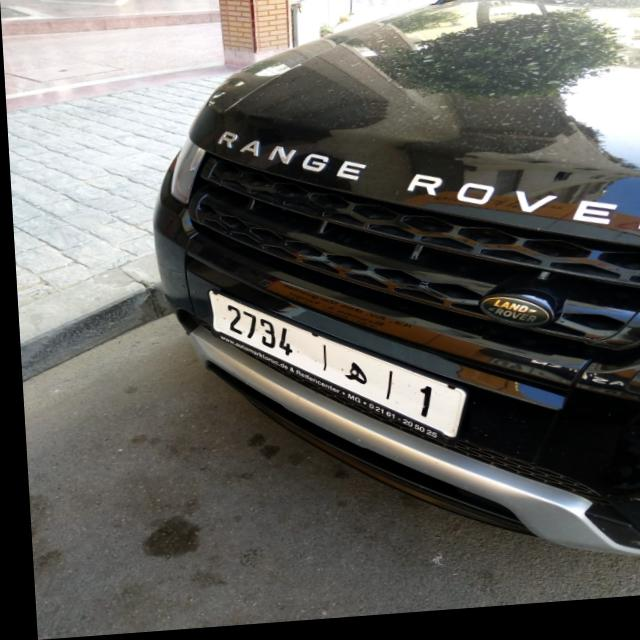License-Plate: (206, 294, 461, 444)
